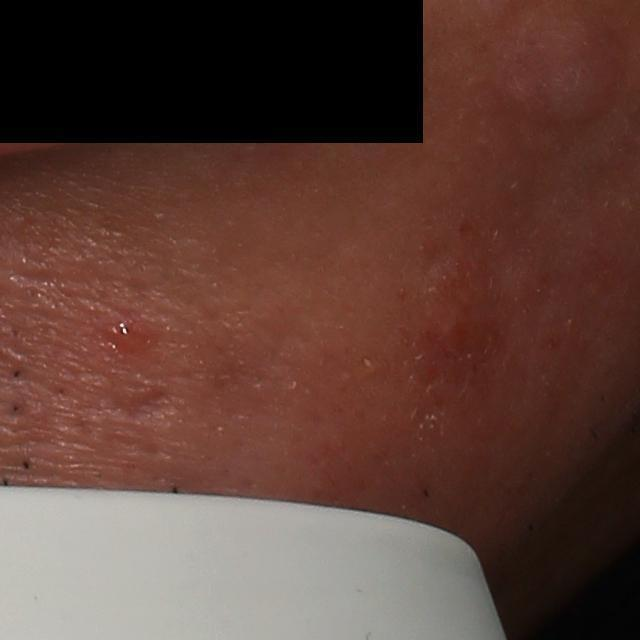atrophic_scar: (95, 380, 192, 433)
nodule: (467, 4, 638, 149)
papule: (420, 304, 487, 370), (100, 311, 148, 355)
